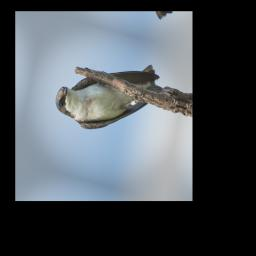Swallow: (51, 40, 168, 147)
